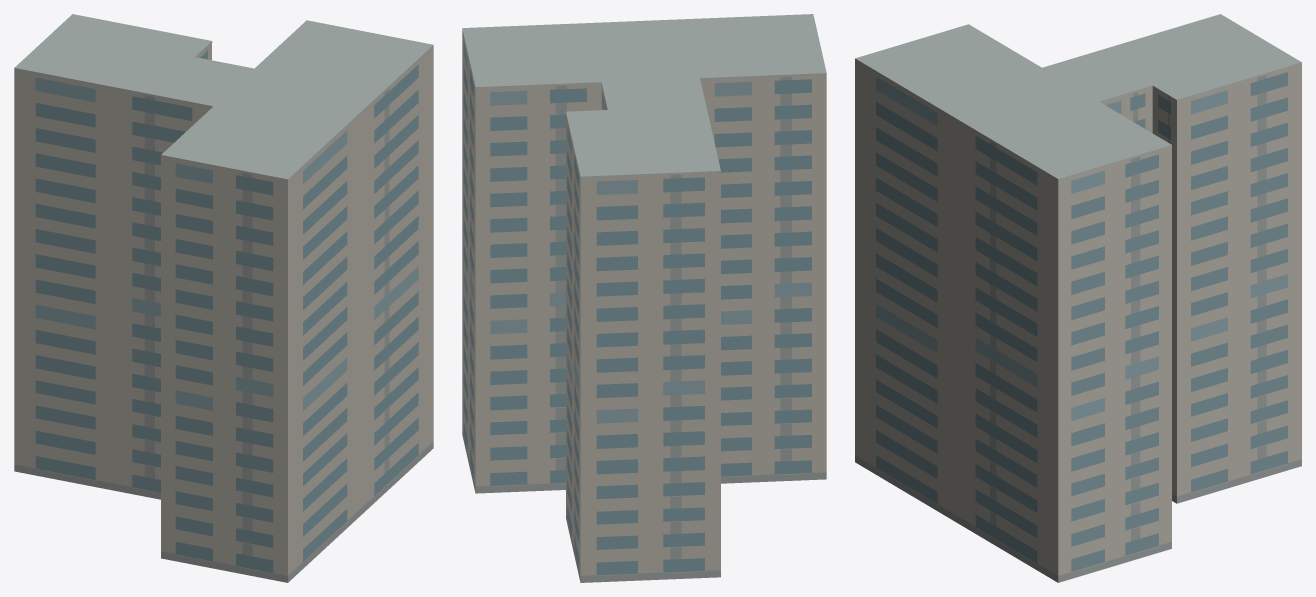
Rendered from residential-96746dc1-8bbd-4f17-9fbe-c3cf8dba4631.glb.
3 renders of one model, left to right at view 1: azimuth 30°, elevation 25°; view 2: azimuth 150°, elevation 25°; view 3: azimuth 270°, elevation 25°, orthographic.
Parts seen in each view (by area): view 1: residential-96746dc1-8bbd-4f17-9fbe-c3cf8dba4631.tmp; view 2: residential-96746dc1-8bbd-4f17-9fbe-c3cf8dba4631.tmp; view 3: residential-96746dc1-8bbd-4f17-9fbe-c3cf8dba4631.tmp.
Part boxes in pixels (x1,y1,x2,y2): residential-96746dc1-8bbd-4f17-9fbe-c3cf8dba4631.tmp: (14, 14, 433, 582); residential-96746dc1-8bbd-4f17-9fbe-c3cf8dba4631.tmp: (462, 14, 826, 582); residential-96746dc1-8bbd-4f17-9fbe-c3cf8dba4631.tmp: (855, 14, 1301, 582).
Bounding box in the file's own units: 41.21 × 47 × 47.14.
